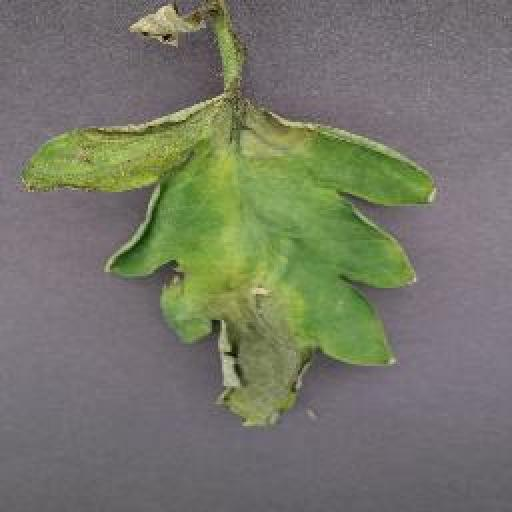disease_tomato: (20, 91, 438, 437)
